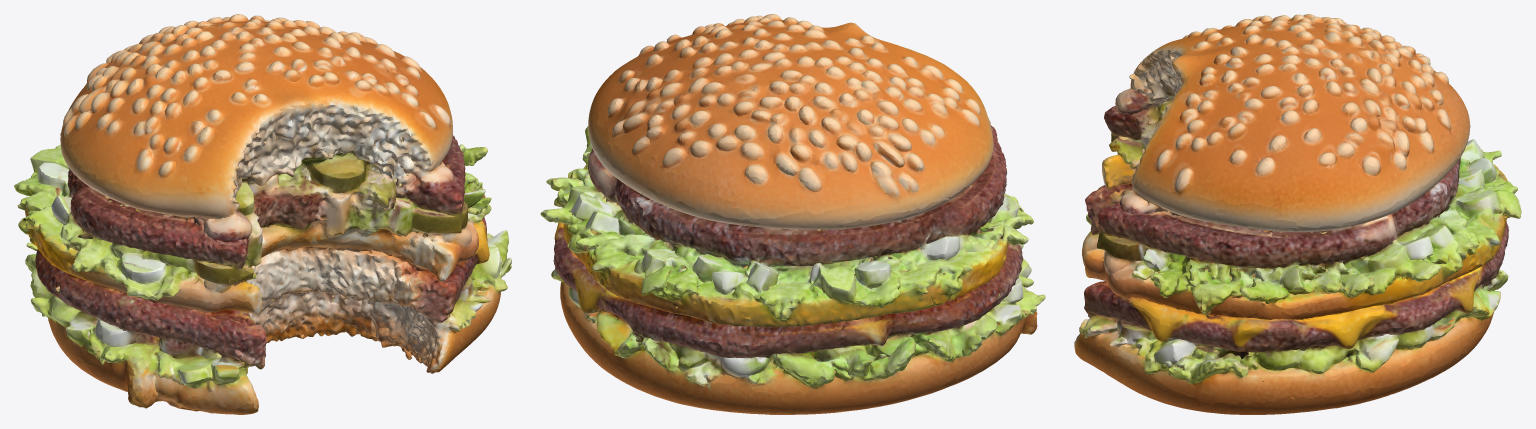
File: burger-2.glb
The picture shows the model from 3 angles, left to right: view 1: azimuth 30°, elevation 25°; view 2: azimuth 150°, elevation 25°; view 3: azimuth 270°, elevation 25°; orthographic projection. The views are drawn at different scales.
Visible parts, largest first — view 1: geometry_0; view 2: geometry_0; view 3: geometry_0.
Part boxes in pixels (x1,y1,x2,y2): geometry_0: [14, 14, 511, 414]; geometry_0: [540, 14, 1045, 414]; geometry_0: [1074, 14, 1521, 414].
Size of the model in its own units: 0.1927 by 0.125 by 0.1773.
Materials: 1 (1 with a texture image).
